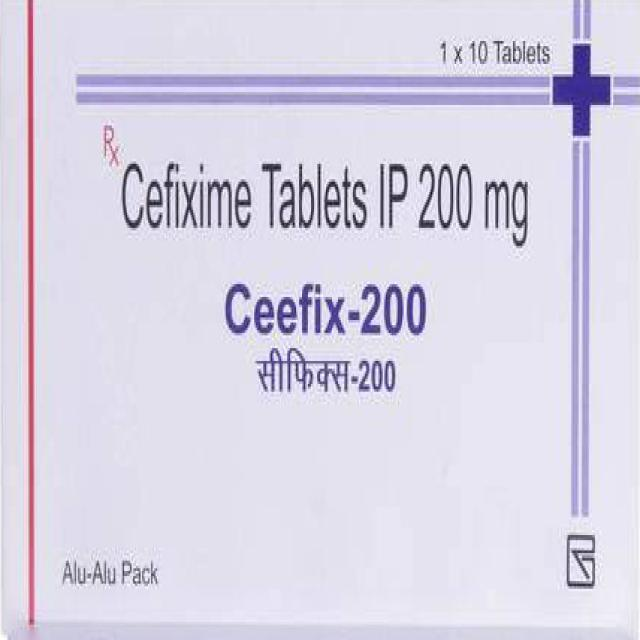drug-name: (218, 274, 428, 344)
